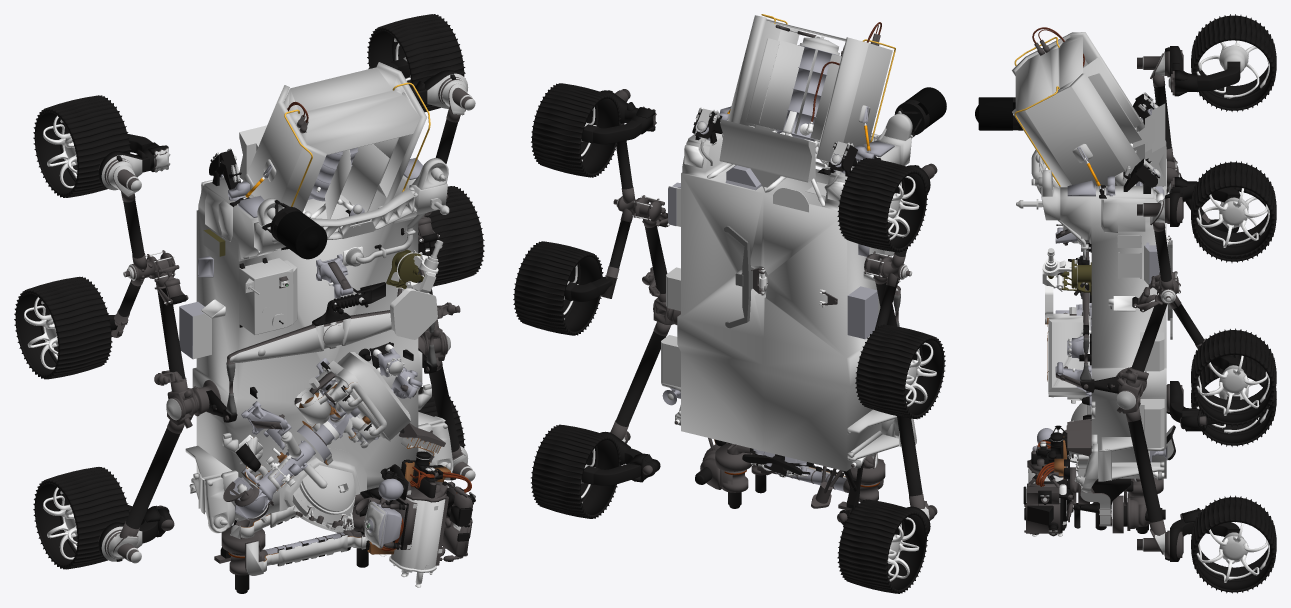
The model's file is rover.obj.
3 views of the same model, side by side, from view 1: azimuth 30°, elevation 25°; view 2: azimuth 150°, elevation 25°; view 3: azimuth 270°, elevation 25° (orthographic). The views are drawn at different scales.
Parts seen in each view (by area): view 1: Body, Wheels_objs, suspension, rtg, Body_Parts, turret_obj, head, lab, arm, box, antenna_hg, bottom (+12 smaller); view 2: Body, Wheels_objs, rtg, suspension, Body_Parts, RIMFAX, arm.003, arm, antenna_uhf, hazcams_rear, arm_02.001, hazcams_front (+2 smaller); view 3: Wheels_objs, Body, suspension, rtg, Body_Parts, turret_obj, head, antenna_hg, arm_cable_etc, RIMFAX, arm.001, antenna_uhf (+5 smaller).
Boxes of the visible parts, x1=… form: Body: x1=185, y1=158, x2=453, y2=533; Wheels_objs: x1=14, y1=14, x2=484, y2=569; suspension: x1=98, y1=59, x2=475, y2=563; rtg: x1=229, y1=62, x2=430, y2=223; Body_Parts: x1=179, y1=167, x2=451, y2=528; turret_obj: x1=366, y1=451, x2=471, y2=587; head: x1=294, y1=352, x2=410, y2=441; lab: x1=279, y1=448, x2=366, y2=532; arm: x1=221, y1=506, x2=368, y2=593; box: x1=239, y1=257, x2=297, y2=334; antenna_hg: x1=386, y1=240, x2=443, y2=339; bottom: x1=234, y1=440, x2=315, y2=520; Body: x1=661, y1=106, x2=916, y2=471; Wheels_objs: x1=513, y1=83, x2=945, y2=593; rtg: x1=707, y1=14, x2=895, y2=206; suspension: x1=564, y1=89, x2=937, y2=534; Body_Parts: x1=661, y1=111, x2=912, y2=416; RIMFAX: x1=719, y1=119, x2=815, y2=187; arm.003: x1=695, y1=443, x2=752, y2=508; arm: x1=751, y1=453, x2=885, y2=501; antenna_uhf: x1=894, y1=87, x2=946, y2=136; hazcams_rear: x1=693, y1=107, x2=857, y2=176; arm_02.001: x1=724, y1=225, x2=752, y2=328; hazcams_front: x1=750, y1=448, x2=813, y2=477; Wheels_objs: x1=1191, y1=14, x2=1276, y2=593; Body: x1=1031, y1=118, x2=1166, y2=492; suspension: x1=1080, y1=46, x2=1241, y2=561; rtg: x1=1012, y1=27, x2=1163, y2=198; Body_Parts: x1=1031, y1=154, x2=1164, y2=486; turret_obj: x1=1027, y1=425, x2=1076, y2=536; head: x1=1045, y1=313, x2=1091, y2=400; antenna_hg: x1=1042, y1=248, x2=1091, y2=318; arm_cable_etc: x1=1067, y1=419, x2=1112, y2=526; RIMFAX: x1=1133, y1=103, x2=1166, y2=186; arm.001: x1=1074, y1=457, x2=1130, y2=533; antenna_uhf: x1=975, y1=97, x2=1023, y2=130.
Size of the model in its own units: 2.7 by 3.11 by 1.85.
